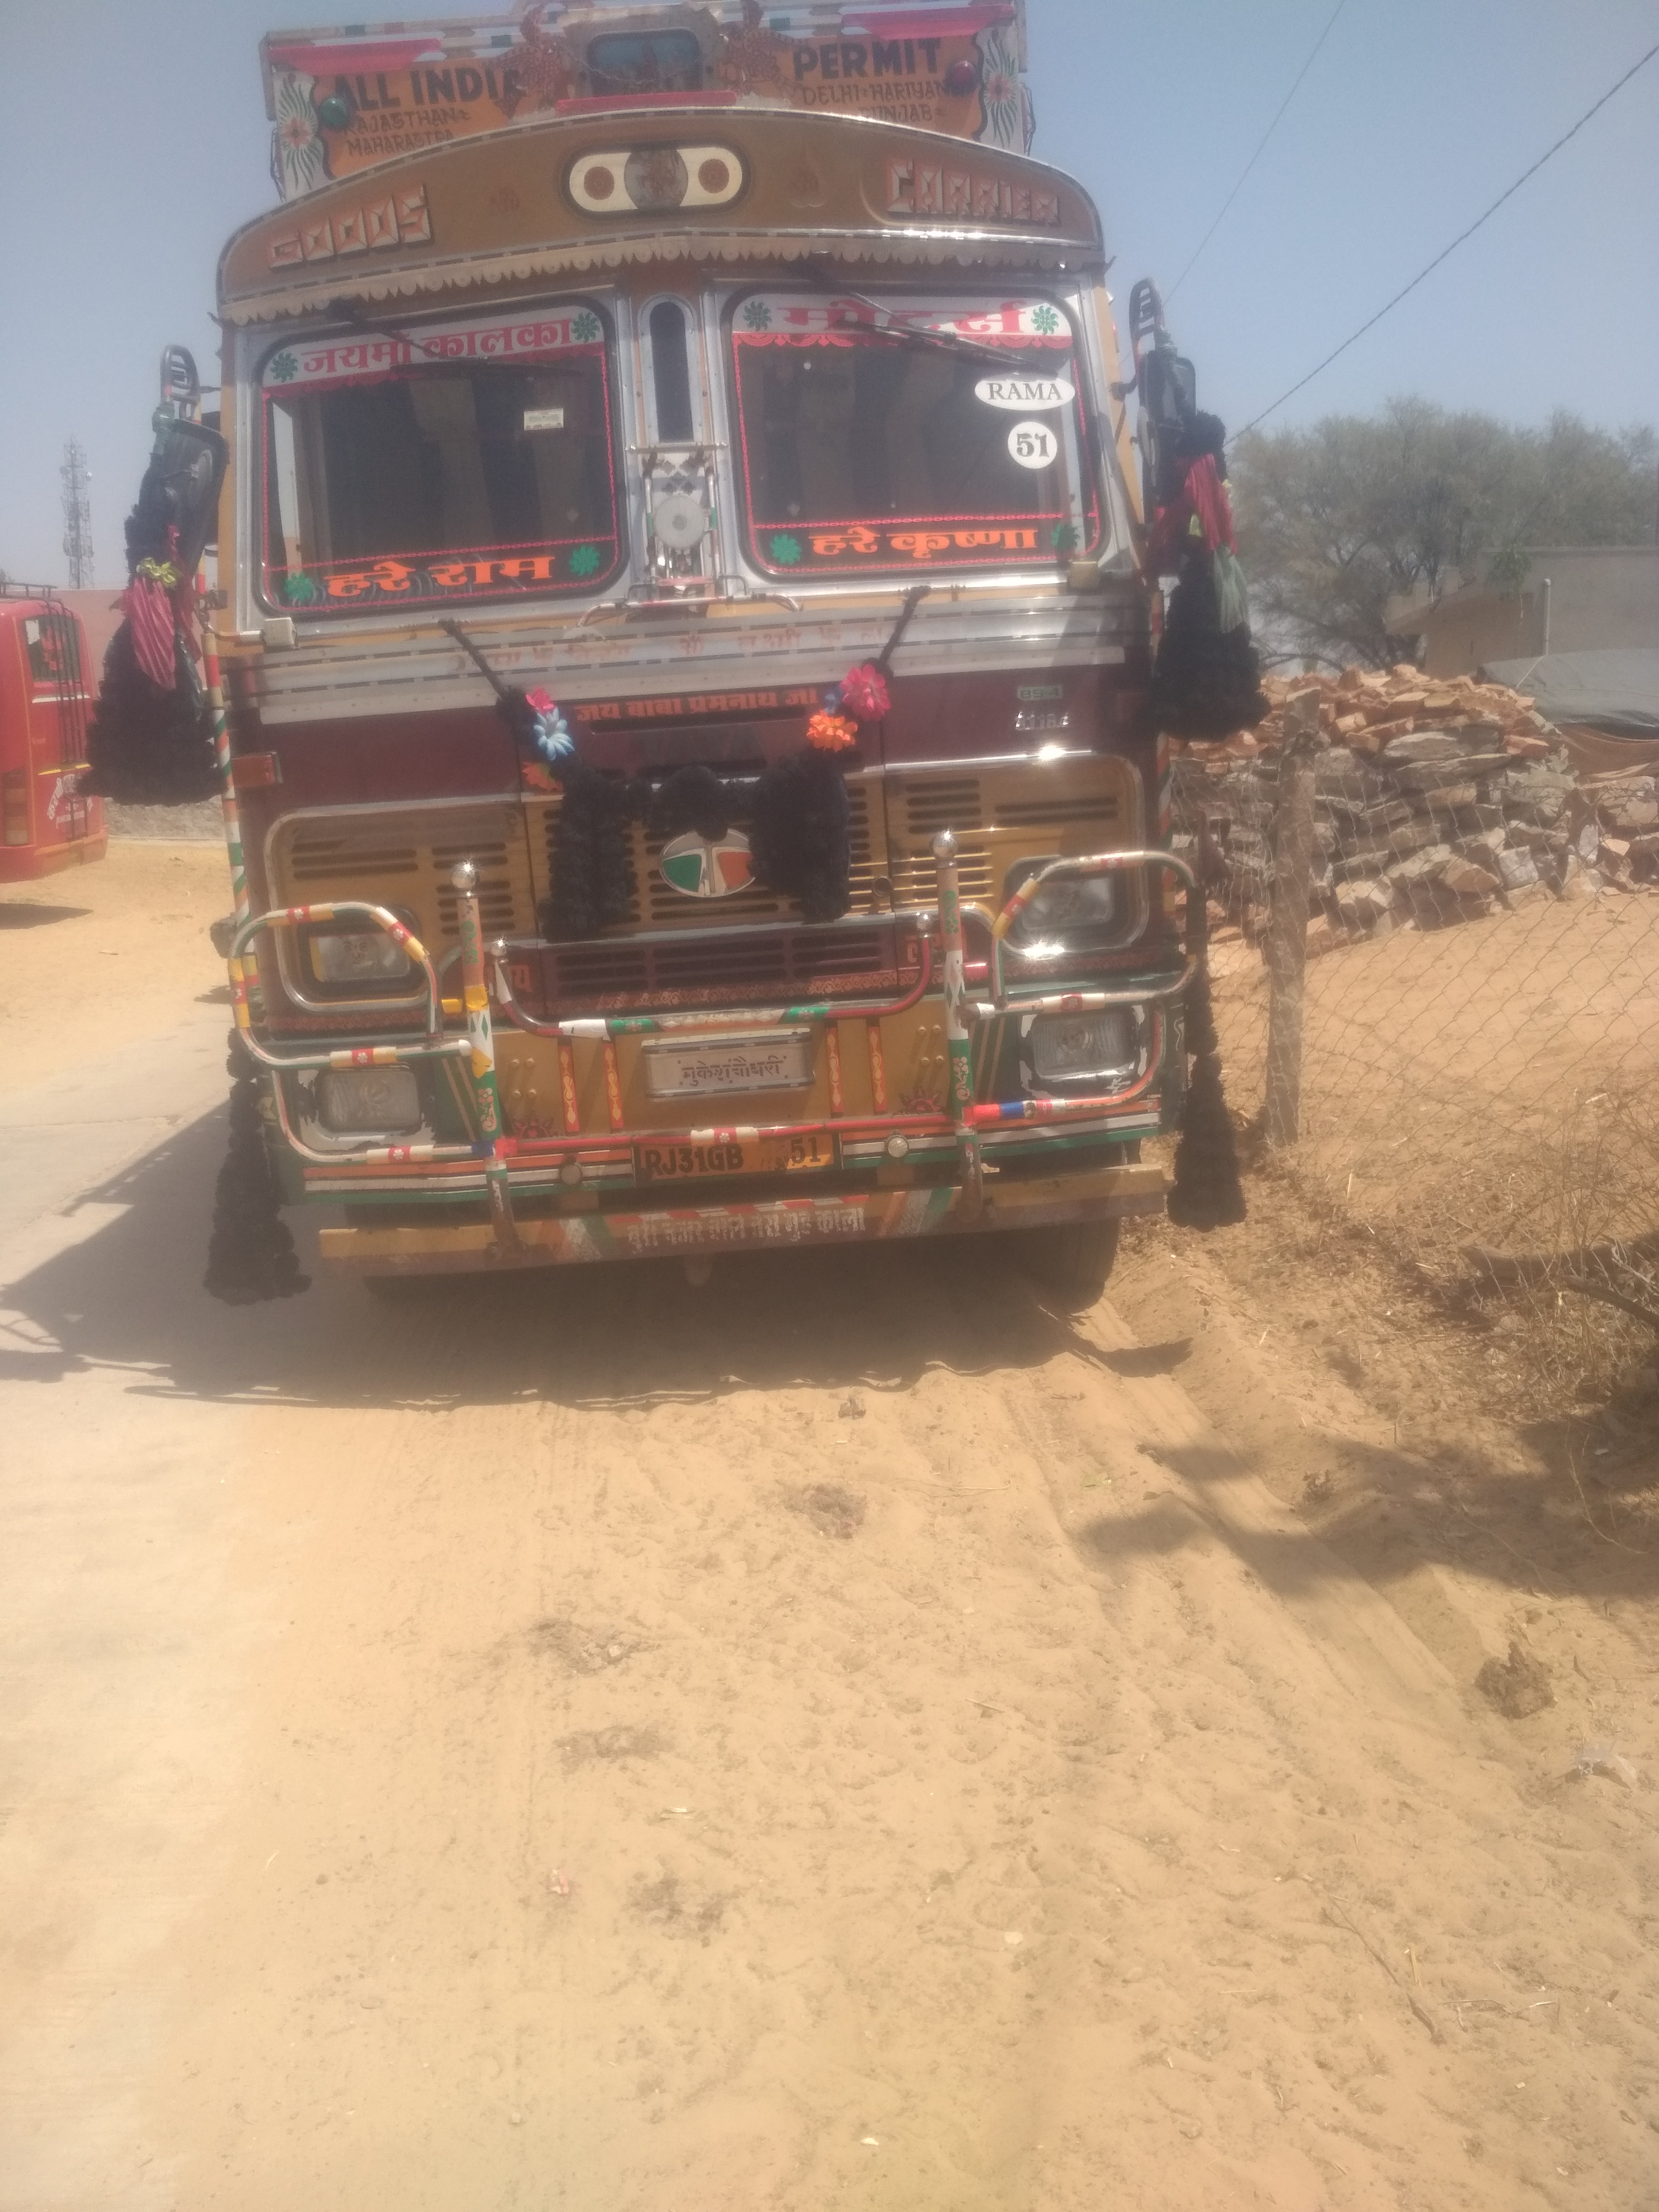truck: (70, 0, 1276, 1315)
